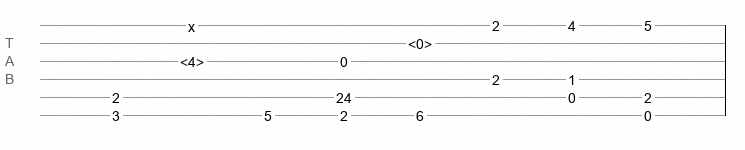0: (340, 54, 348, 64), (568, 90, 576, 100), (644, 108, 652, 118)
1: (568, 72, 576, 82)
2: (112, 90, 120, 100), (340, 108, 348, 118), (492, 72, 500, 82), (492, 18, 500, 28), (644, 90, 652, 100)
24: (336, 90, 352, 100)
3: (112, 108, 120, 118)
4: (568, 18, 576, 28)
5: (264, 108, 272, 118), (644, 18, 652, 28)
6: (416, 108, 424, 118)
harmonic: (180, 54, 204, 64), (408, 36, 432, 46)
x: (188, 19, 195, 27)
